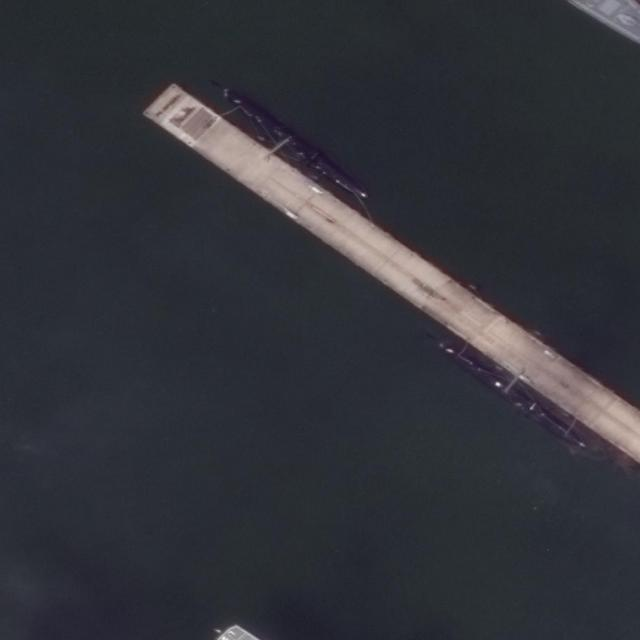Submarine: (418, 326, 593, 454), (204, 75, 372, 206)
